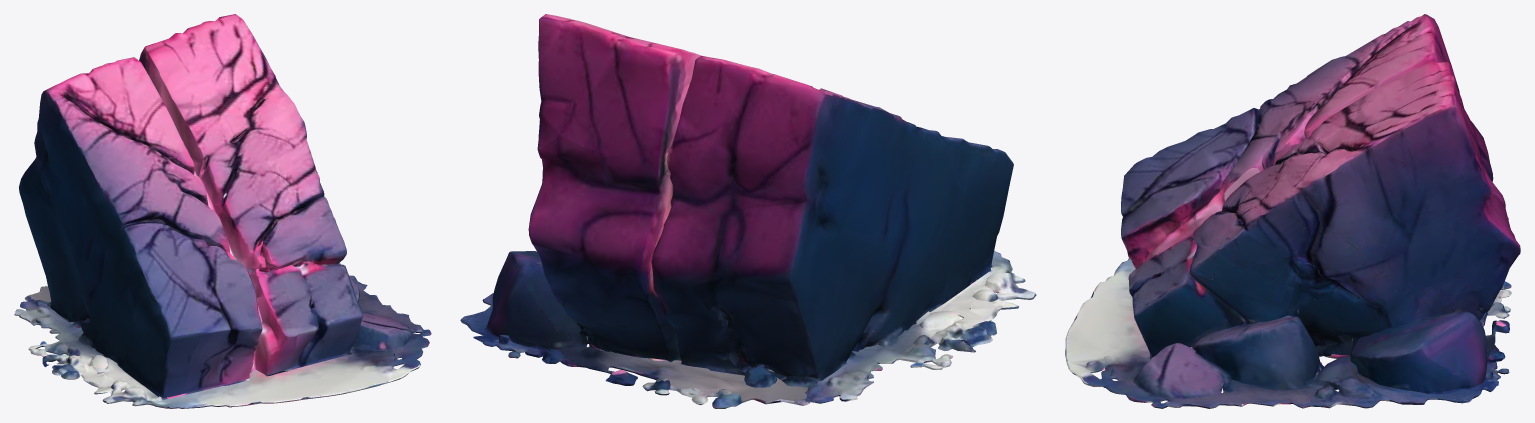
The model's file is shore-stone-2-generated-2026-05-17T19-55-56-822Z.low.glb.
3 views of the same model, side by side, from view 1: azimuth 30°, elevation 25°; view 2: azimuth 150°, elevation 25°; view 3: azimuth 270°, elevation 25° (orthographic). The views are drawn at different scales.
Visible parts, largest first — view 1: temp_mesh.ply; view 2: temp_mesh.ply; view 3: temp_mesh.ply.
Boxes of the visible parts, left/top/right/bottom form: temp_mesh.ply: left=14, top=14, right=431, bottom=408; temp_mesh.ply: left=460, top=14, right=1036, bottom=408; temp_mesh.ply: left=1065, top=14, right=1520, bottom=408.
Size of the model in its own units: 1.83 by 1.3 by 1.97.
1 material, 1 textured.
